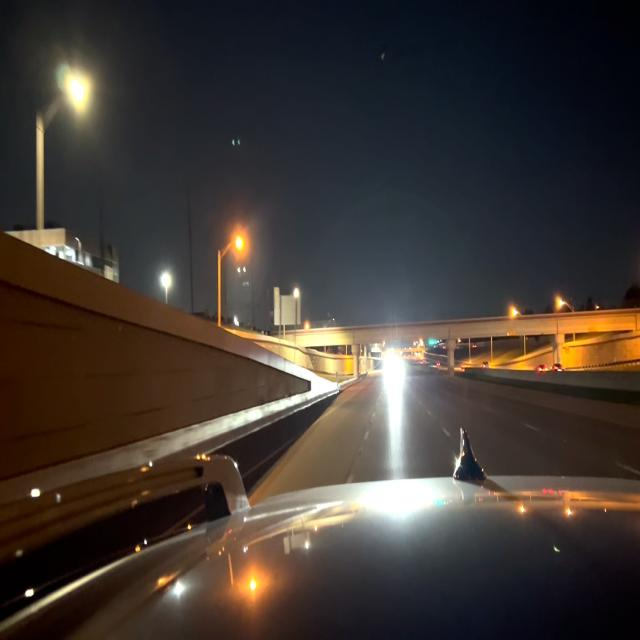back-of-sign: (275, 295, 301, 324)
